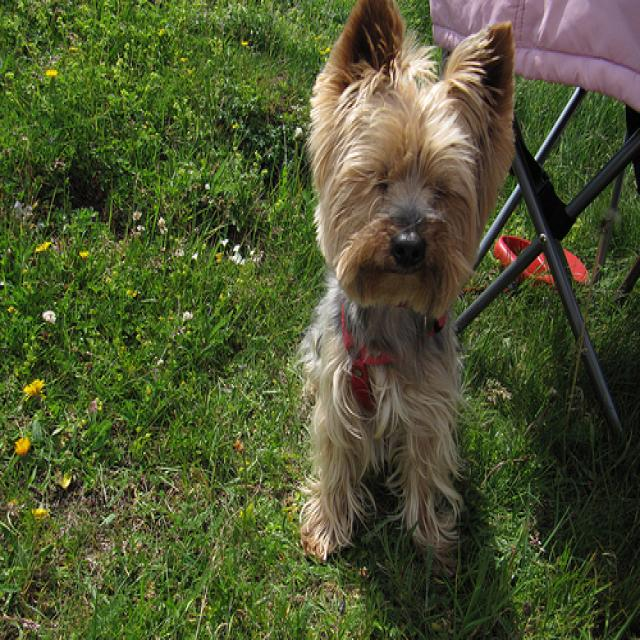dog-yorkshire_terrier: (284, 2, 529, 570)
